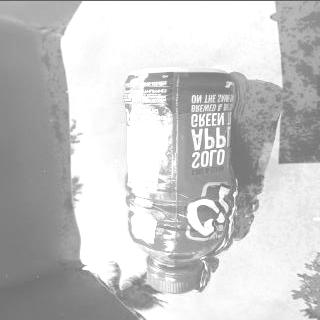bottle: (121, 68, 236, 297)
